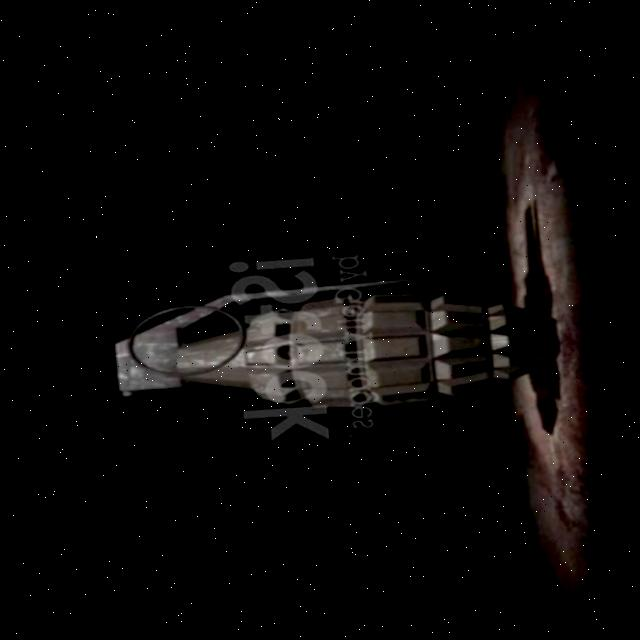grenade: (90, 209, 573, 472)
